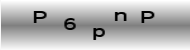6: (62, 17, 78, 31)
P: (32, 10, 48, 25), (139, 9, 155, 24)
n: (113, 10, 128, 23)
p: (91, 26, 107, 41)
